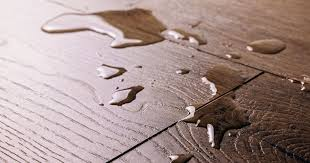Wet-floor: (47, 0, 183, 50), (189, 55, 249, 143), (88, 50, 151, 125), (245, 6, 288, 72), (168, 55, 193, 86)
